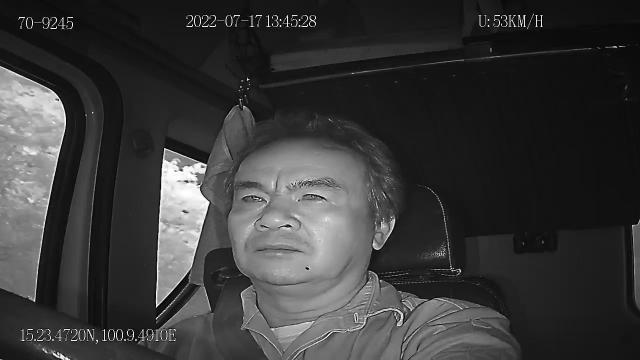SafeDriving: (292, 182, 336, 207), (232, 182, 271, 209)
Seatbelt: (211, 274, 271, 360)
